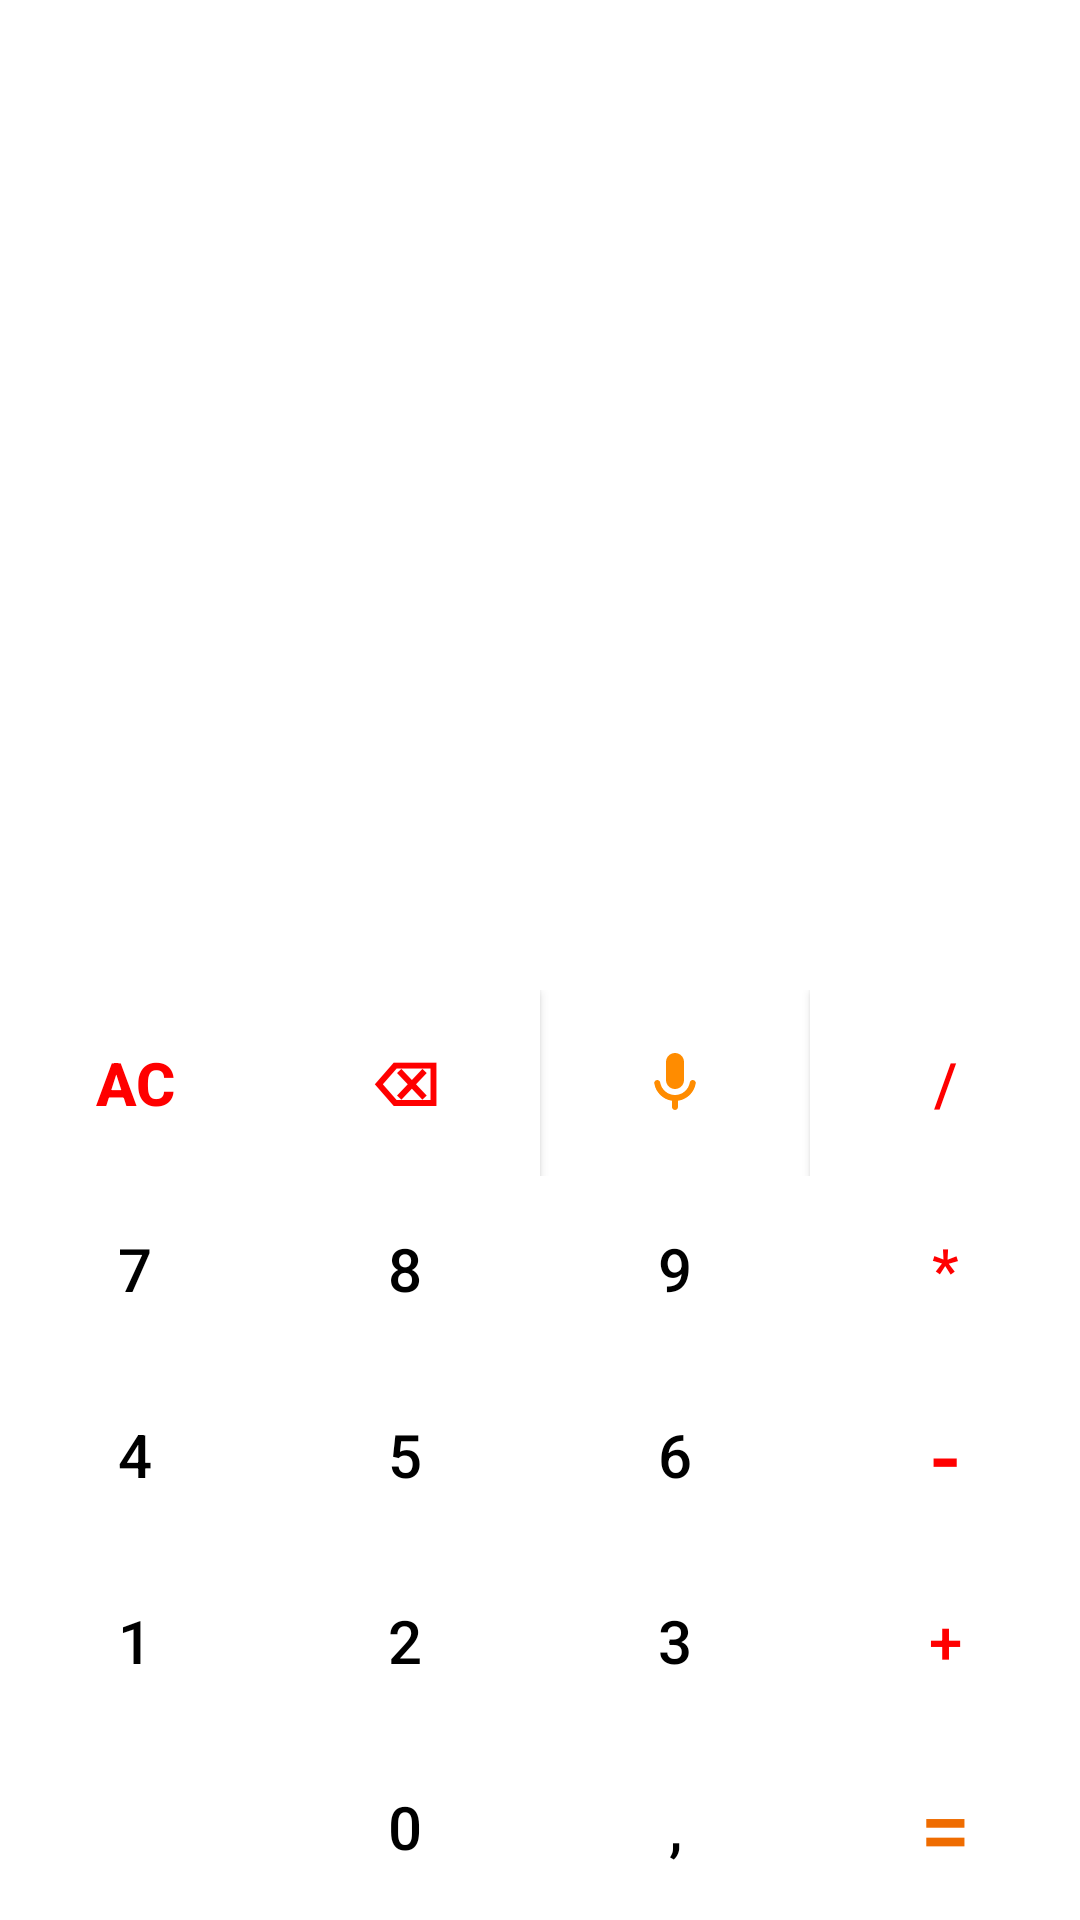

Icon click points for this 1080 × 1920 phone screenshot, format (x=x, y=y):
void mic: (x=675, y=1081)
